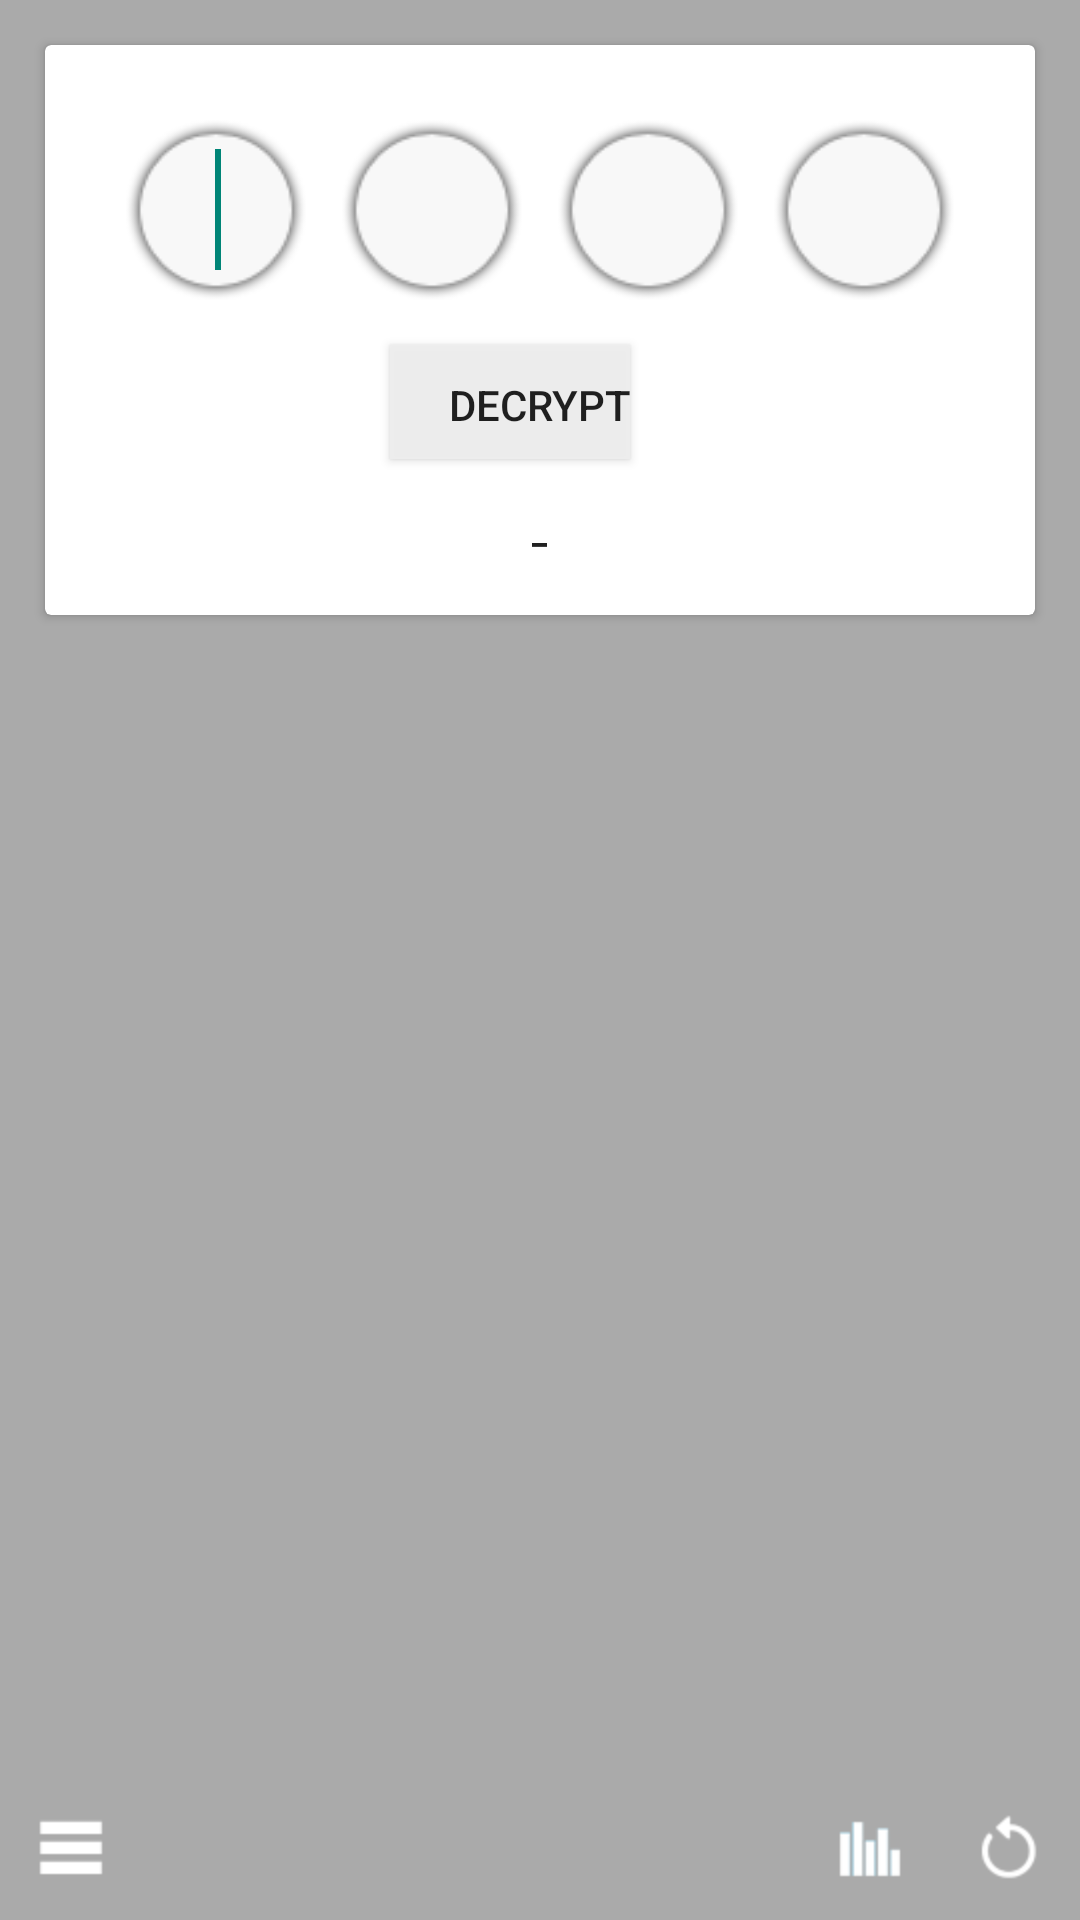

Locate icon controls on the screen. Image size 1080w x 1920h, boxes as (x1, y1, x2, y2).
menu: (40, 1821, 102, 1874)
reload: (982, 1816, 1036, 1878)
scores: (840, 1822, 900, 1876)
